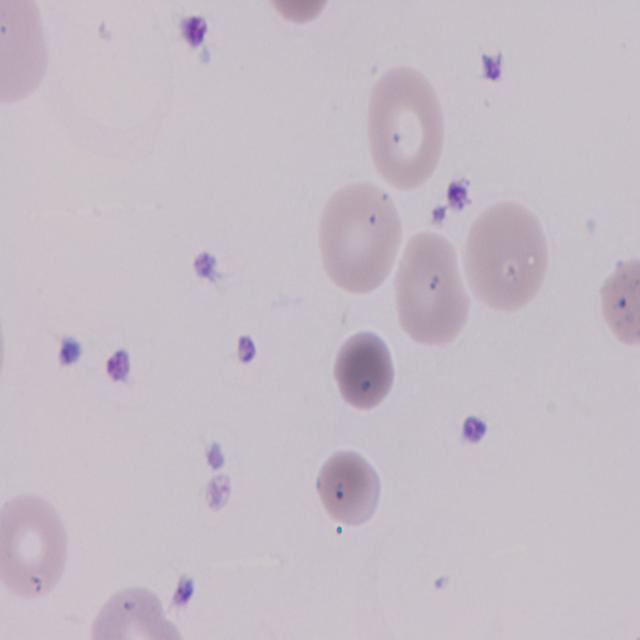RBC: (360, 61, 450, 198), (315, 176, 405, 302), (461, 196, 556, 314), (0, 484, 75, 618), (391, 225, 468, 349), (77, 584, 195, 636), (0, 0, 53, 112)
Spherocyte: (334, 328, 398, 414)
